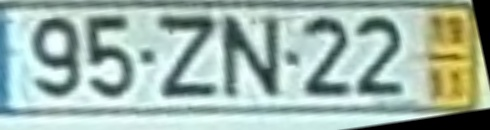2: (297, 14, 354, 98), (351, 13, 406, 98)
5: (79, 12, 138, 102)
9: (26, 14, 83, 103)
N: (219, 15, 283, 101)
Z: (153, 14, 220, 100)
